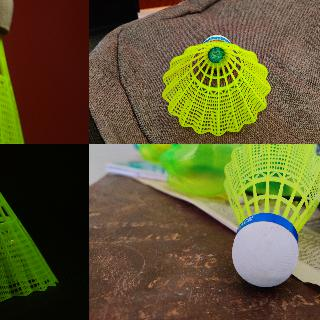shuttlecock: (222, 144, 319, 288), (162, 36, 274, 134), (0, 144, 57, 312), (0, 0, 25, 143)
